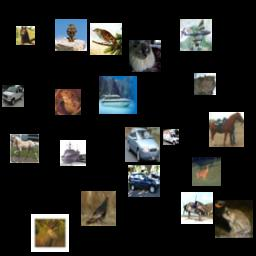airplane: (180, 19, 212, 51), (181, 192, 213, 224)
automobile: (125, 127, 160, 162), (128, 165, 160, 197), (2, 85, 24, 107)
bird: (81, 191, 116, 226), (55, 19, 87, 51), (90, 23, 122, 55)
cat: (129, 40, 161, 72), (194, 73, 216, 95)
deer: (31, 214, 69, 252), (192, 157, 221, 186)
frog: (215, 200, 253, 238), (55, 89, 81, 115)
ship: (99, 76, 137, 114), (60, 140, 86, 166)
truck: (163, 129, 179, 145)
